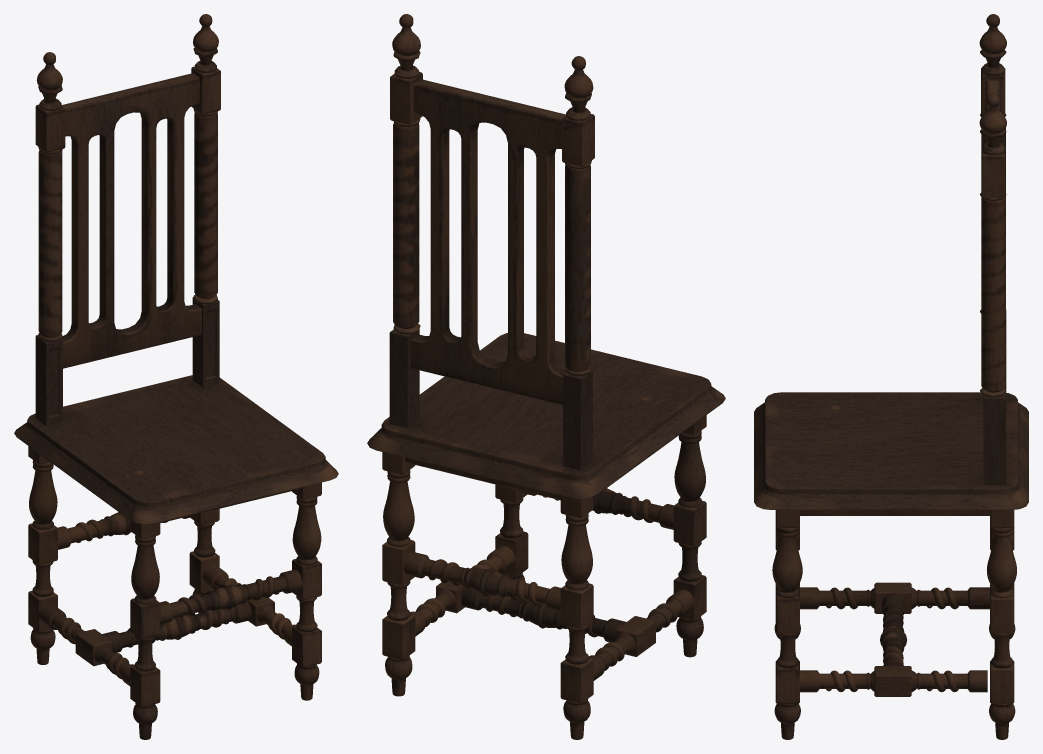
File: WoodenChair.glb
3 views of the same model, side by side, from view 1: azimuth 30°, elevation 25°; view 2: azimuth 150°, elevation 25°; view 3: azimuth 270°, elevation 25° (orthographic). The views are drawn at different scales.
Visible parts, largest first — view 1: Wooden Chair; view 2: Wooden Chair; view 3: Wooden Chair.
Part boxes in pixels (box(x1,y1,x2,y2)): Wooden Chair: box(14, 14, 338, 739); Wooden Chair: box(367, 14, 725, 739); Wooden Chair: box(754, 14, 1028, 739).
Bounding box in the file's own units: 0.4924 × 1.4 × 0.5435.
Materials: 1 (1 with a texture image).
